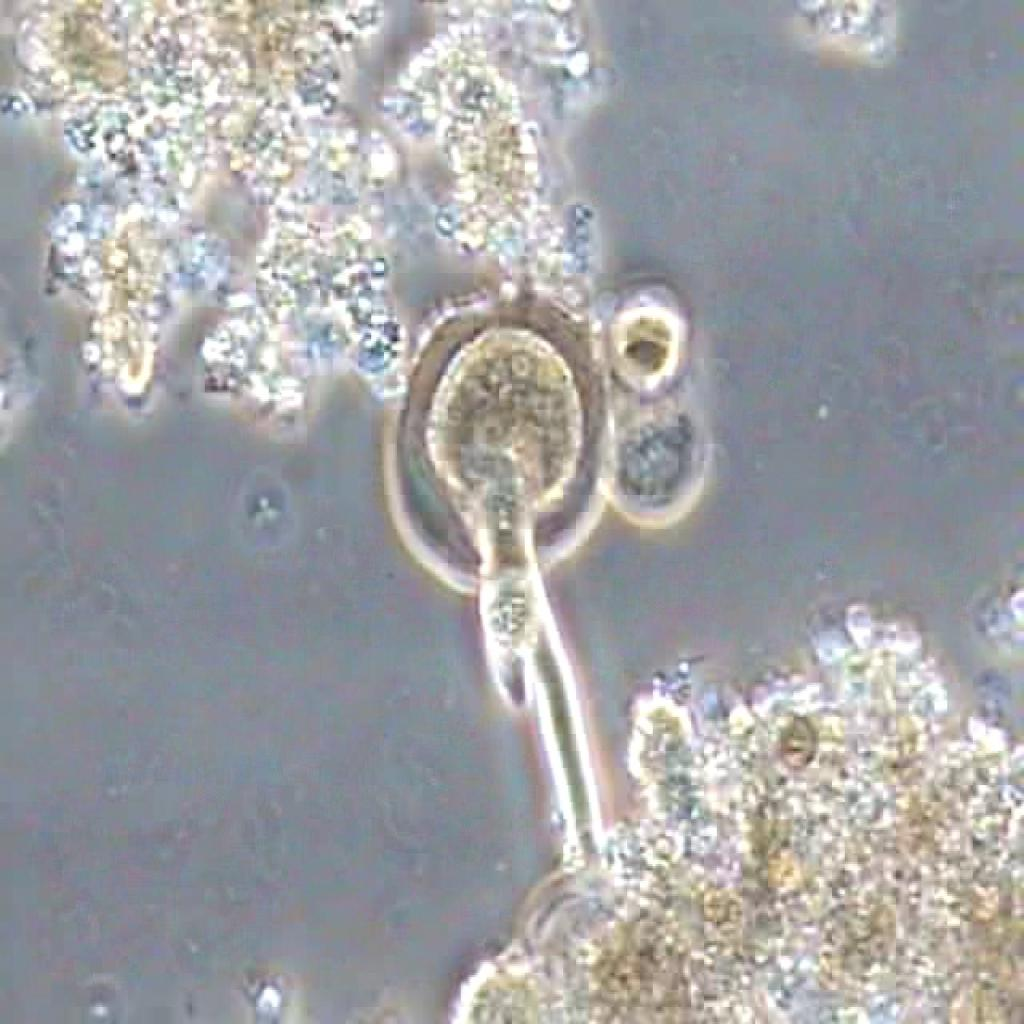Arcella: (377, 263, 620, 720)
